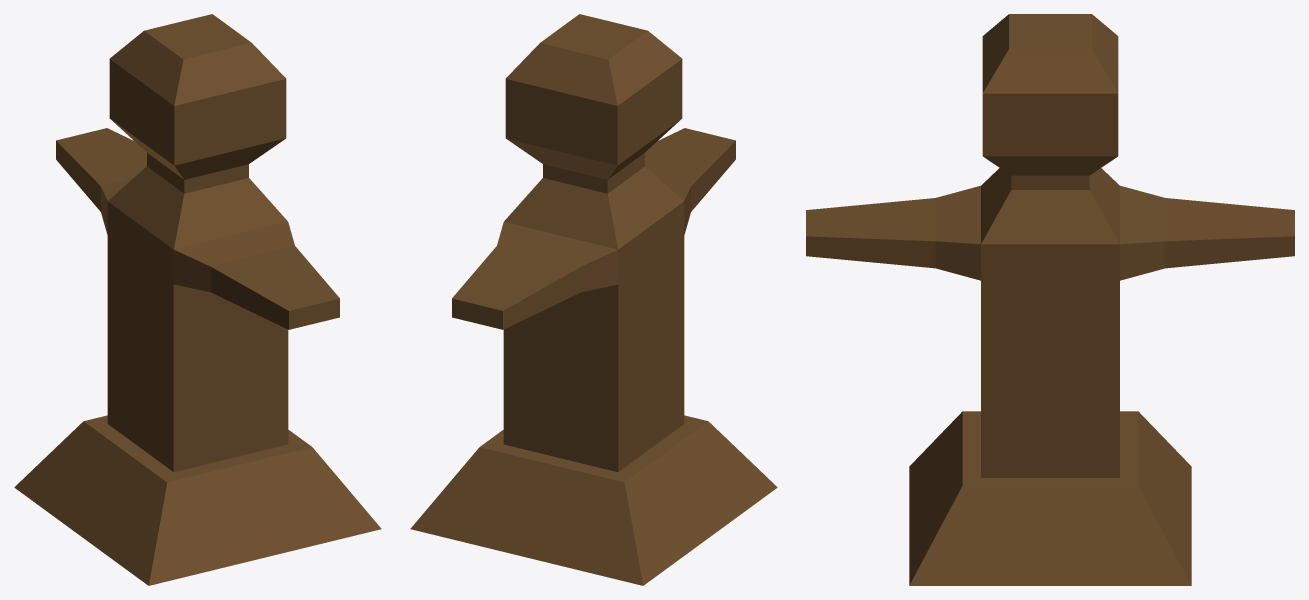
File: chess_piece2.fbx
3 views of the same model, side by side, from view 1: azimuth 30°, elevation 25°; view 2: azimuth 150°, elevation 25°; view 3: azimuth 270°, elevation 25° (orthographic). The views are drawn at different scales.
Parts seen in each view (by area): view 1: Strategische Figur; view 2: Strategische Figur; view 3: Strategische Figur.
Part boxes in pixels (x1,y1,x2,y2): Strategische Figur: [14, 14, 381, 585]; Strategische Figur: [410, 14, 777, 585]; Strategische Figur: [806, 14, 1294, 585].
Bounding box in the file's own units: 4.89 × 9.45 × 8.46.
